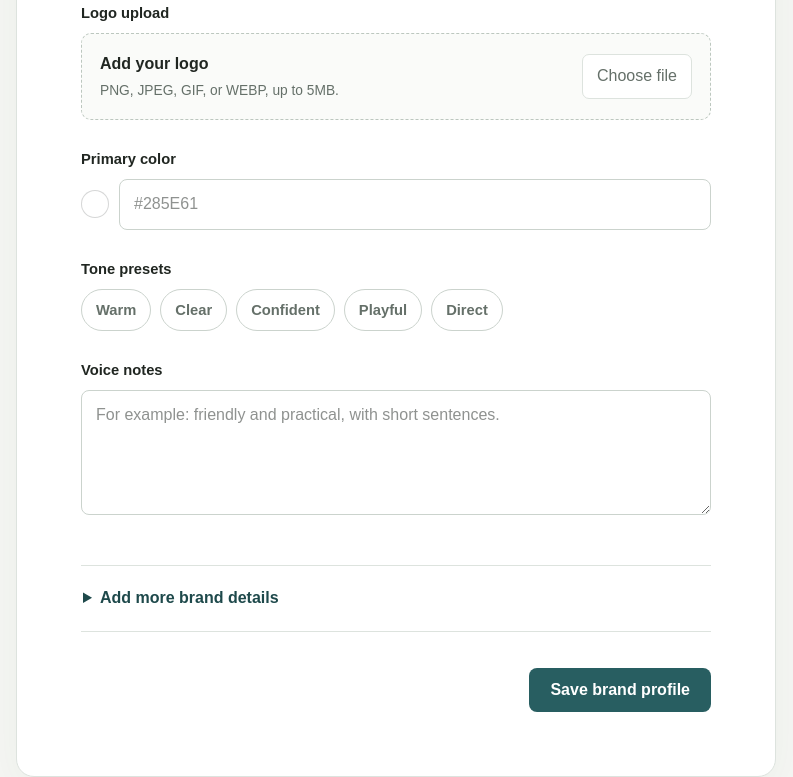
Test: BrandProfileForm › reveals optional fields through Add more brand details
The image size is (793, 777).
(page scrolled)
Step 1. Click the heading "Add more brand details" → (189, 598), box top-left (100, 589), bottom-right (279, 606)
(page scrolled)
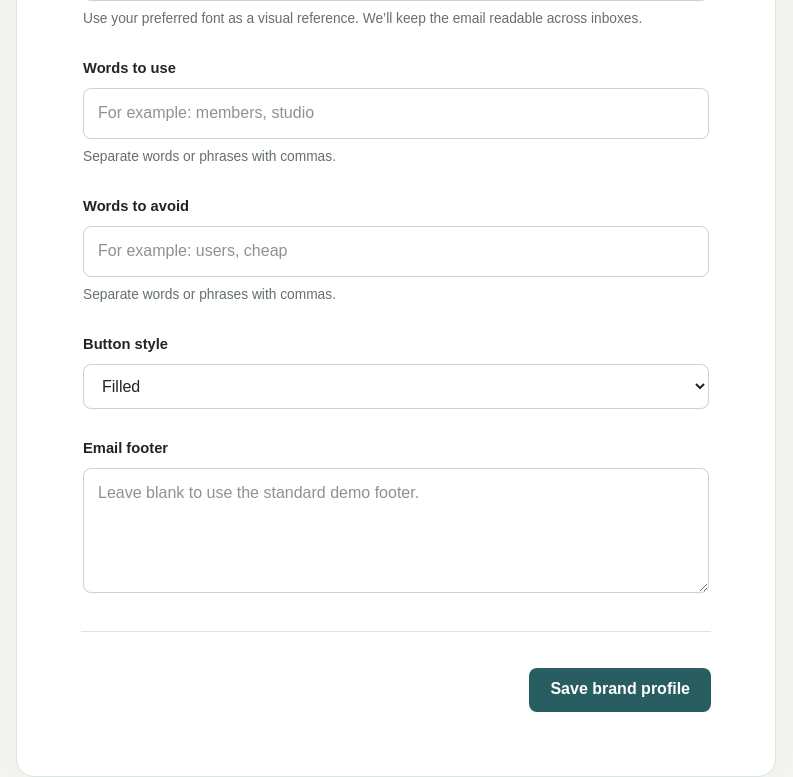
Now the field labelled "Words to use" is shown, box top-left (83, 88), bottom-right (709, 139)
Now the field labelled "Words to avoid" is shown, box top-left (83, 226), bottom-right (709, 277)
Now the dropdown labelled "Button style" is shown, box top-left (83, 364), bottom-right (709, 409)
